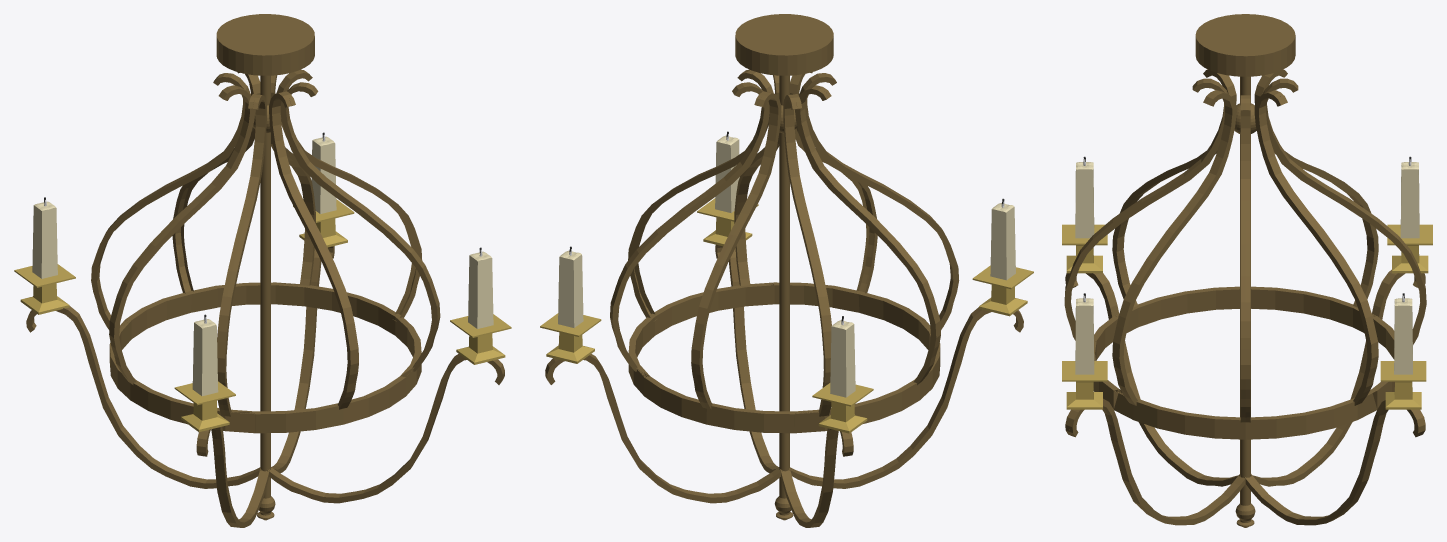
File: chandelier.fbx
The picture shows the model from 3 angles, left to right: view 1: azimuth 30°, elevation 25°; view 2: azimuth 150°, elevation 25°; view 3: azimuth 270°, elevation 25°; orthographic projection.
Parts seen in each view (by area): view 1: Cylinder, Cube.003, Cube.001, Cube.002, Plane.004, Plane.003, Plane.005, Cube, Plane.002; view 2: Cylinder, Cube, Cube.002, Cube.003, Plane.005, Plane.002, Plane.004, Cube.001, Plane.003; view 3: Cylinder, Plane.002, Plane.003, Cube.001, Cube.002, Cube.003, Cube, Plane.005, Plane.004.
Boxes of the visible parts, x1=… form: Cylinder: x1=26, y1=14, x2=504, y2=527; Cube.003: x1=32, y1=201, x2=57, y2=278; Cube.001: x1=468, y1=251, x2=493, y2=328; Cube.002: x1=192, y1=319, x2=218, y2=396; Plane.004: x1=174, y1=381, x2=235, y2=431; Plane.003: x1=450, y1=314, x2=511, y2=364; Plane.005: x1=14, y1=264, x2=75, y2=314; Cube: x1=311, y1=136, x2=336, y2=213; Plane.002: x1=293, y1=199, x2=354, y2=247; Cylinder: x1=545, y1=14, x2=1023, y2=527; Cube: x1=558, y1=250, x2=583, y2=327; Cube.002: x1=990, y1=203, x2=1015, y2=280; Cube.003: x1=830, y1=320, x2=855, y2=397; Plane.005: x1=812, y1=383, x2=873, y2=433; Plane.002: x1=540, y1=313, x2=601, y2=363; Plane.004: x1=972, y1=265, x2=1033, y2=316; Cube.001: x1=715, y1=135, x2=739, y2=212; Plane.003: x1=697, y1=198, x2=758, y2=246; Cylinder: x1=1064, y1=14, x2=1426, y2=527; Plane.002: x1=1380, y1=361, x2=1426, y2=409; Plane.003: x1=1062, y1=361, x2=1107, y2=409; Cube.001: x1=1075, y1=298, x2=1094, y2=374; Cube.002: x1=1075, y1=162, x2=1094, y2=238; Cube.003: x1=1400, y1=162, x2=1419, y2=238; Cube: x1=1394, y1=298, x2=1412, y2=374; Plane.005: x1=1387, y1=224, x2=1432, y2=273; Plane.004: x1=1062, y1=224, x2=1107, y2=273.
Bounding box in the file's own units: 499 × 735 × 502.
